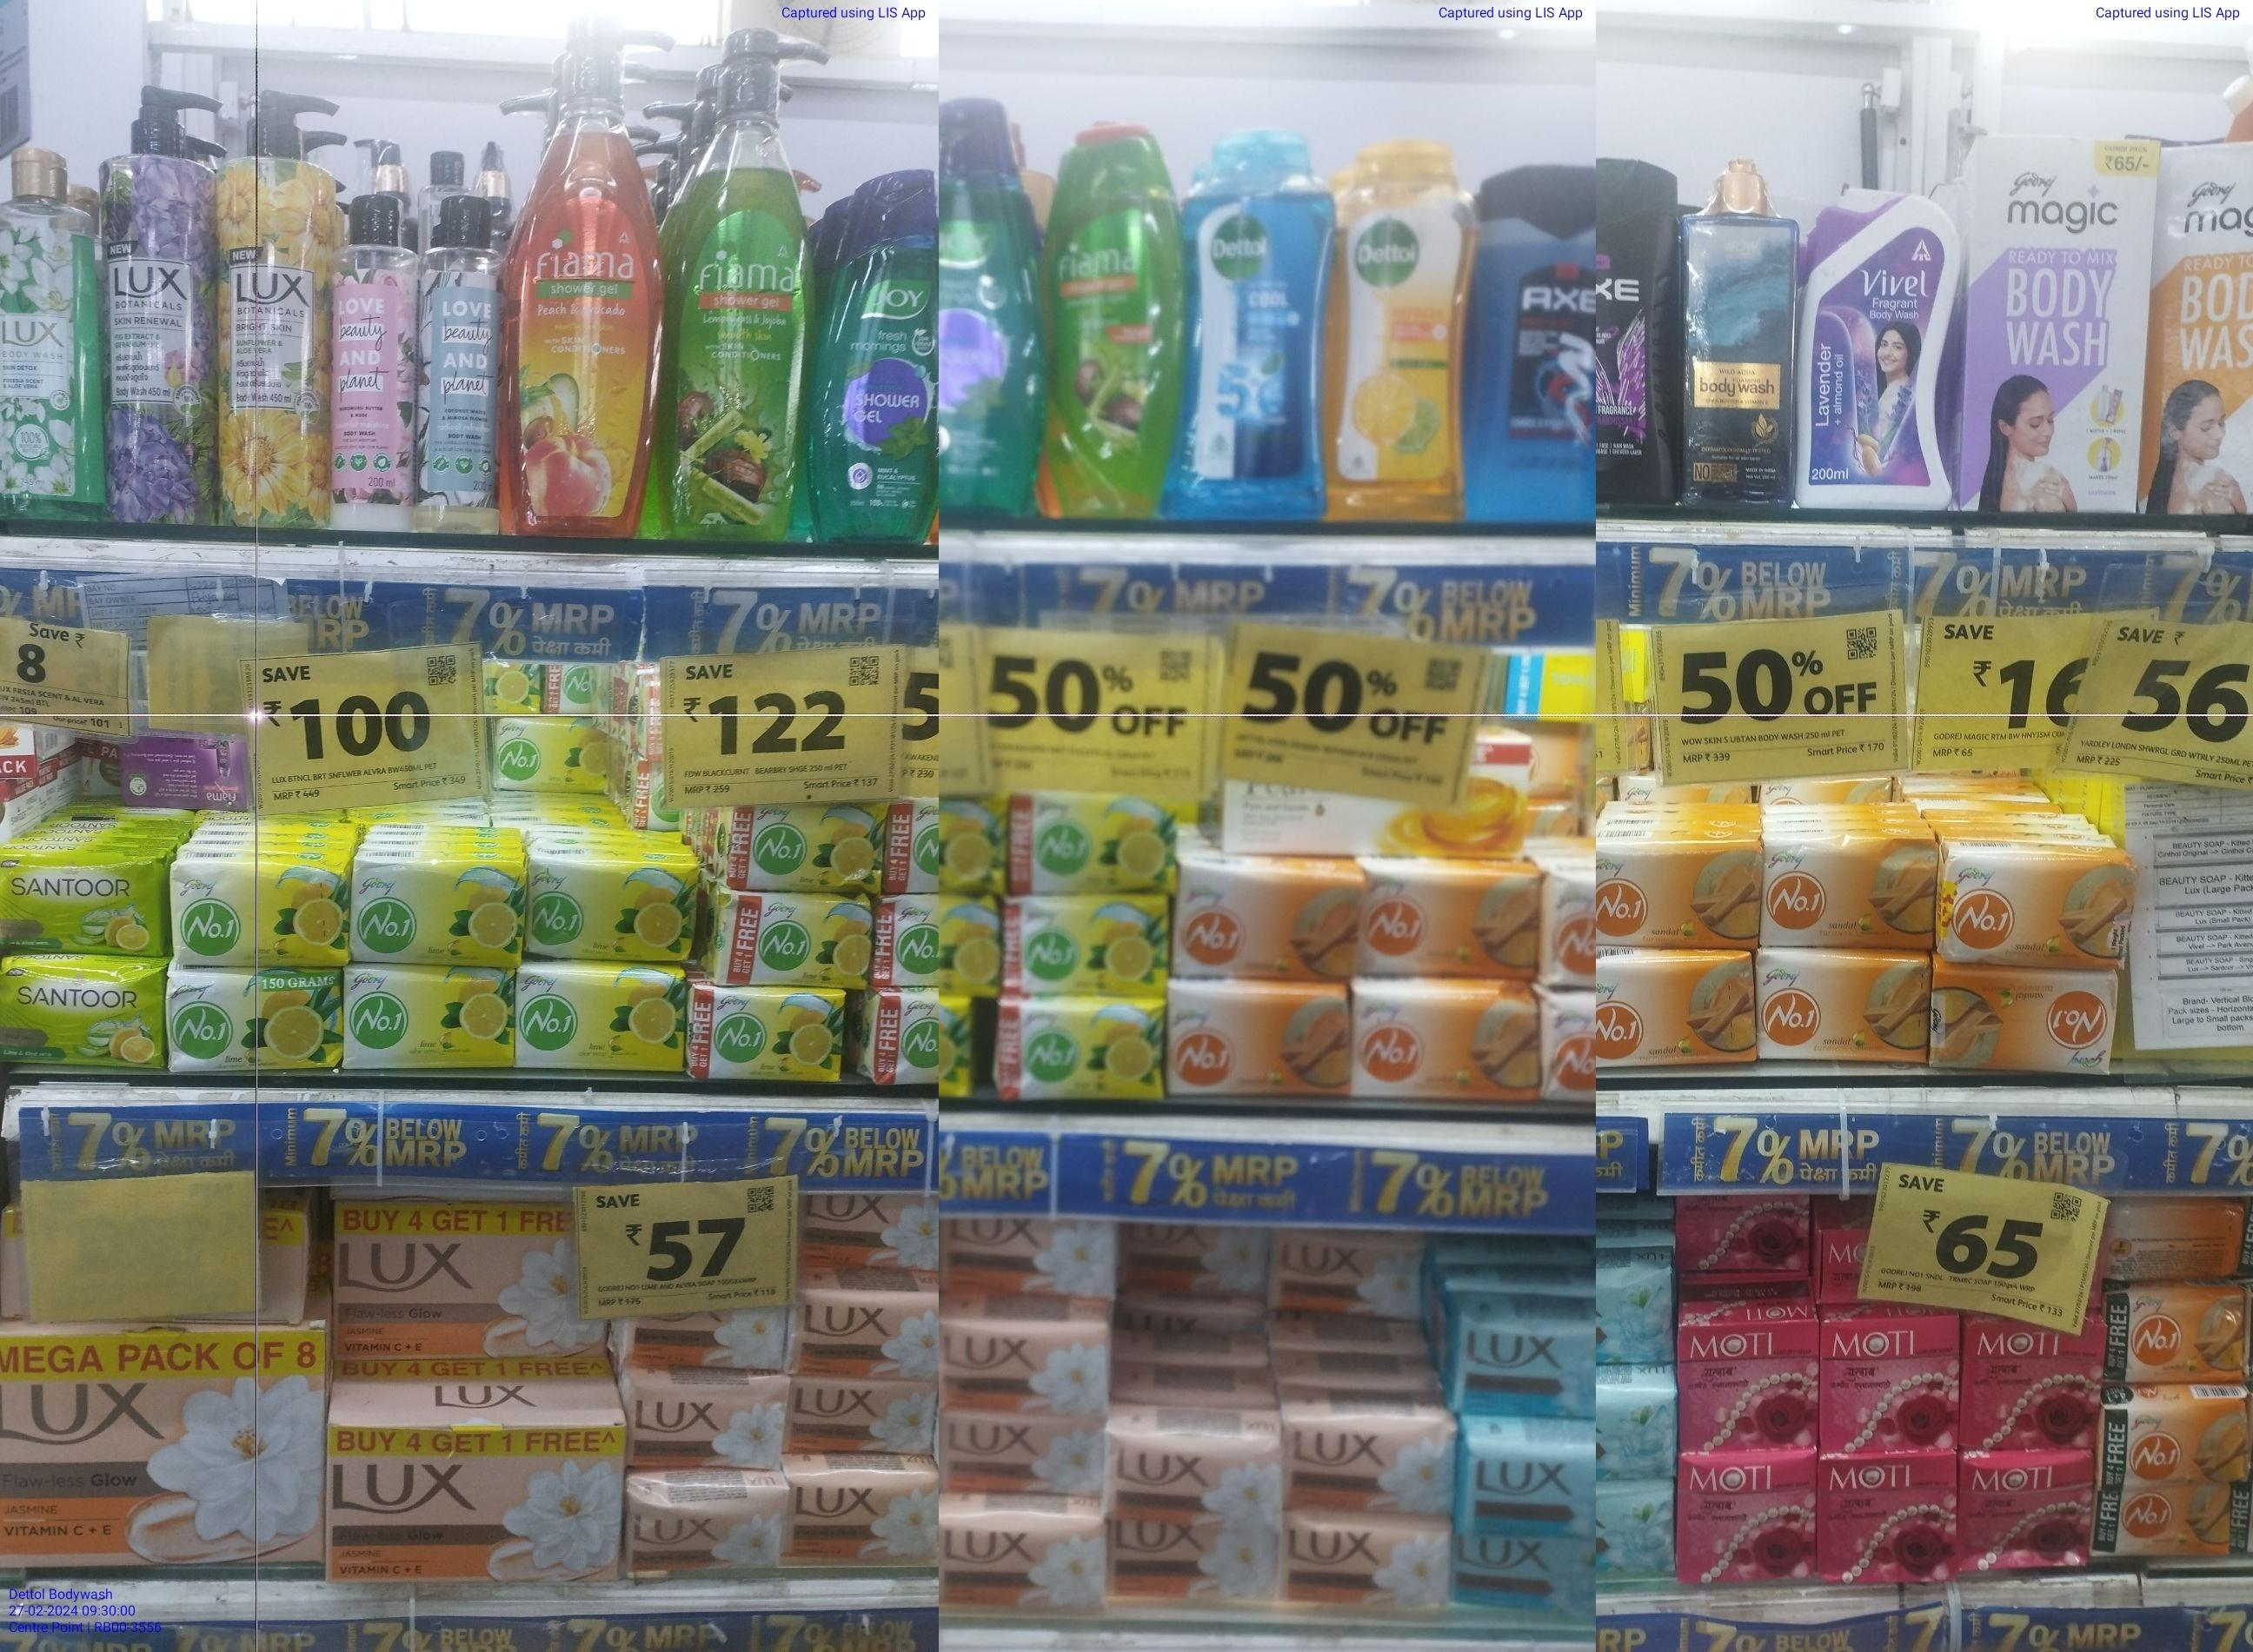Dettol_Bodywash_Cool: (1182, 126, 1321, 530)
Dettol_Bodywash_Refresh: (1338, 128, 1471, 524)
Fiama_Shower_Gel_Lemongrass_and_Jojoba_250ML: (1036, 128, 1174, 530)
Joy_Shower_Gel_Mint_and_Eucalyptus_250ML: (824, 166, 945, 552)
